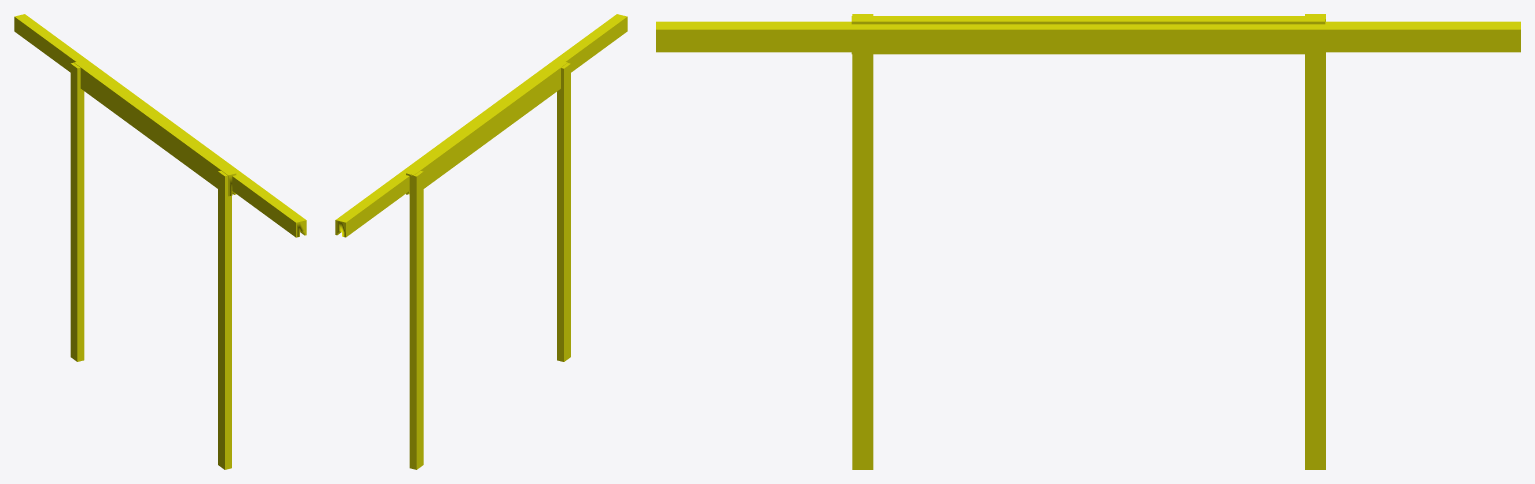
Rendered from Shop_Door_01_Base.fbx.
3 views of the same model, side by side, from view 1: azimuth 30°, elevation 25°; view 2: azimuth 150°, elevation 25°; view 3: azimuth 270°, elevation 25° (orthographic). The views are drawn at different scales.
Visible parts, largest first — view 1: Shop_Door_01_Base; view 2: Shop_Door_01_Base; view 3: Shop_Door_01_Base.
Boxes of the visible parts, x1,y1,x2,y2 form: Shop_Door_01_Base: (14,14,306,469); Shop_Door_01_Base: (335,14,627,469); Shop_Door_01_Base: (656,14,1520,469).
Size of the model in its own units: 18.04 by 284 by 493.
